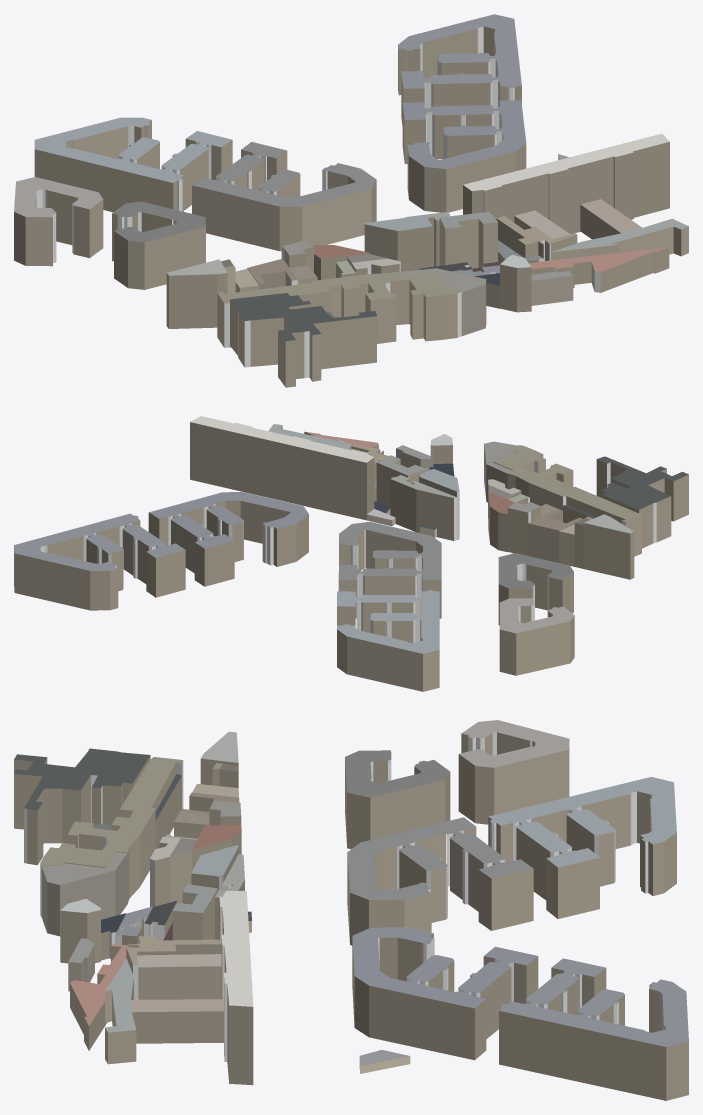
3 renders of one model, top to bottom at view 1: azimuth 30°, elevation 25°; view 2: azimuth 150°, elevation 25°; view 3: azimuth 270°, elevation 25°, orthographic. The views are drawn at different scales.
Visible parts, largest first — view 1: tuile; view 2: tuile; view 3: tuile.
Part boxes in pixels (x1,y1,x2,y2): tuile: (14, 14, 688, 387); tuile: (14, 416, 688, 691); tuile: (14, 720, 688, 1100).
Bounding box in the file's own units: 295 × 35.34 × 256.
